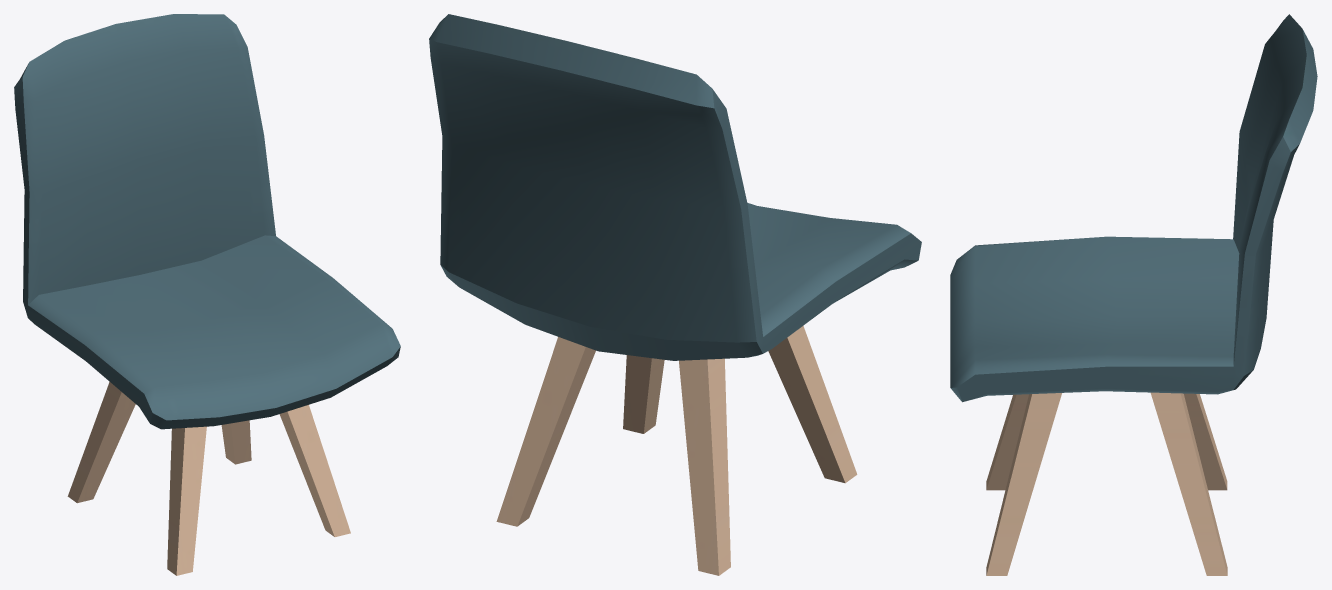
The model's file is chair.fbx.
3 views of the same model, side by side, from view 1: azimuth 30°, elevation 25°; view 2: azimuth 150°, elevation 25°; view 3: azimuth 270°, elevation 25° (orthographic). The views are drawn at different scales.
Visible parts, largest first — view 1: pCube6; view 2: pCube6; view 3: pCube6.
Part boxes in pixels (x1,y1,x2,y2): pCube6: (14,14,400,575); pCube6: (429,14,921,575); pCube6: (950,14,1317,575).
Size of the model in its own units: 0.3108 by 0.5092 by 0.3589.
1 material, 1 textured.
